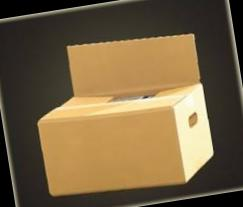Kertas: (37, 34, 210, 194)
